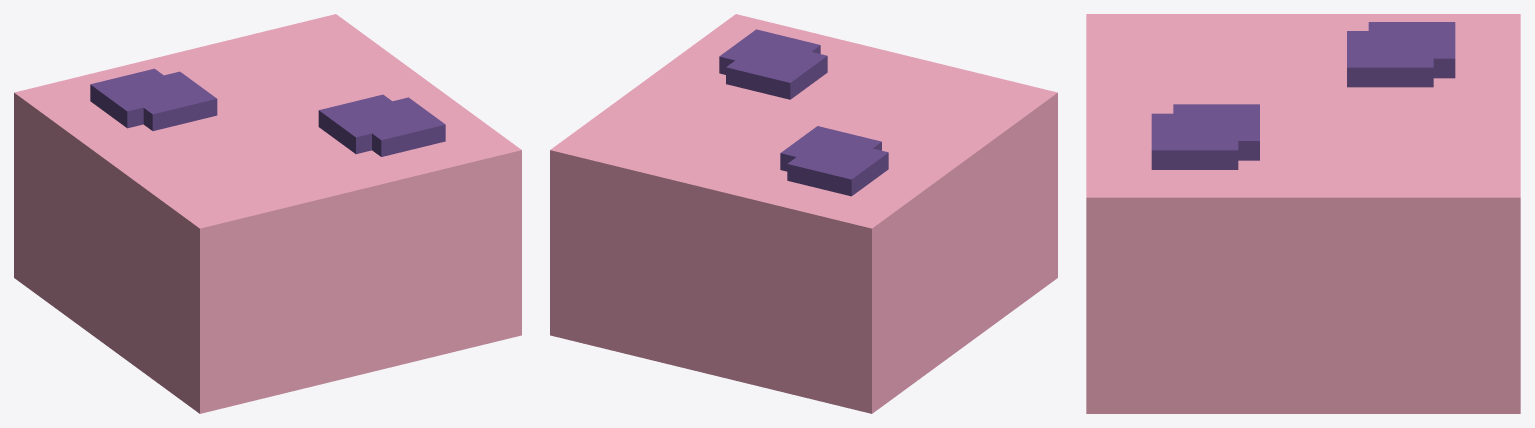
Rendered from GoalTwo.obj.
3 views of the same model, side by side, from view 1: azimuth 30°, elevation 25°; view 2: azimuth 150°, elevation 25°; view 3: azimuth 270°, elevation 25° (orthographic). The views are drawn at different scales.
Size of the model in its own units: 2 by 1.2 by 2.
